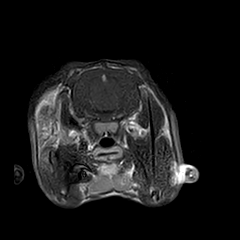Brain: (57, 42, 156, 140)
